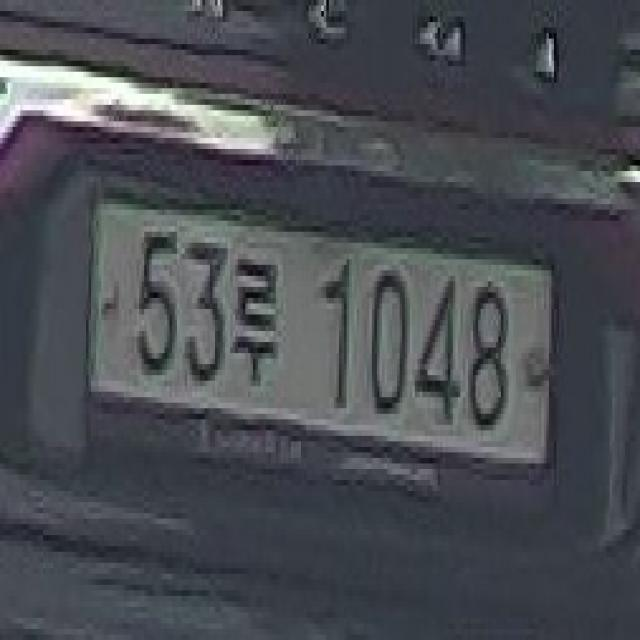0: (364, 248, 418, 442)
1: (321, 243, 362, 436)
3: (180, 215, 232, 397)
4: (415, 254, 465, 447)
5: (122, 210, 184, 386)
8: (468, 260, 519, 463)
license_plate: (81, 193, 559, 519)
lu: (228, 242, 286, 392)
